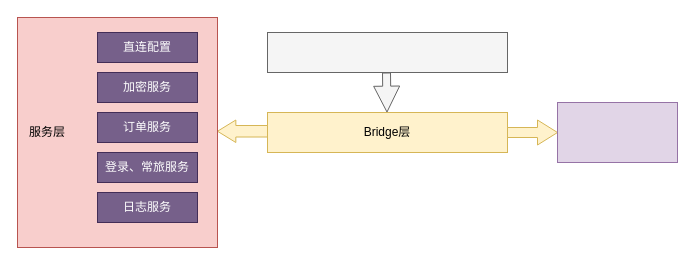
This 695x265 diagram has some shape labels left out. Each missing label, with the centre of its shape:
同程旅行APP（H5）: the point at 387,52
直连SDK: the point at 617,132
